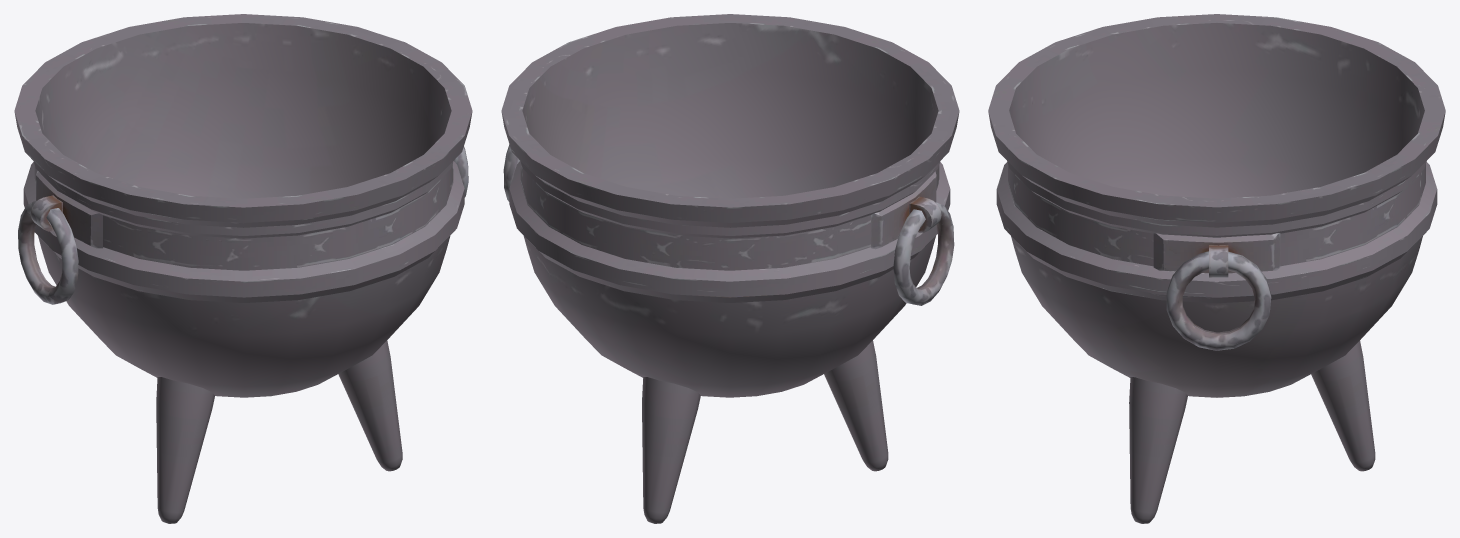
File: Cauldron.glb
3 renders of one model, left to right at view 1: azimuth 30°, elevation 25°; view 2: azimuth 150°, elevation 25°; view 3: azimuth 270°, elevation 25°, orthographic.
Visible parts, largest first — view 1: Cauldron; view 2: Cauldron; view 3: Cauldron.
Boxes of the visible parts, x1,y1,x2,y2 form: Cauldron: [14, 14, 472, 523]; Cauldron: [501, 14, 959, 523]; Cauldron: [988, 14, 1445, 523].
Bounding box in the file's own units: 0.9891 × 0.8156 × 0.9439.
Materials: 1 (1 with a texture image).
